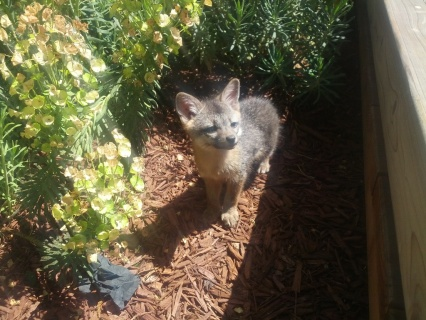Cat: (173, 77, 280, 225)
Fox: (175, 77, 280, 227)
